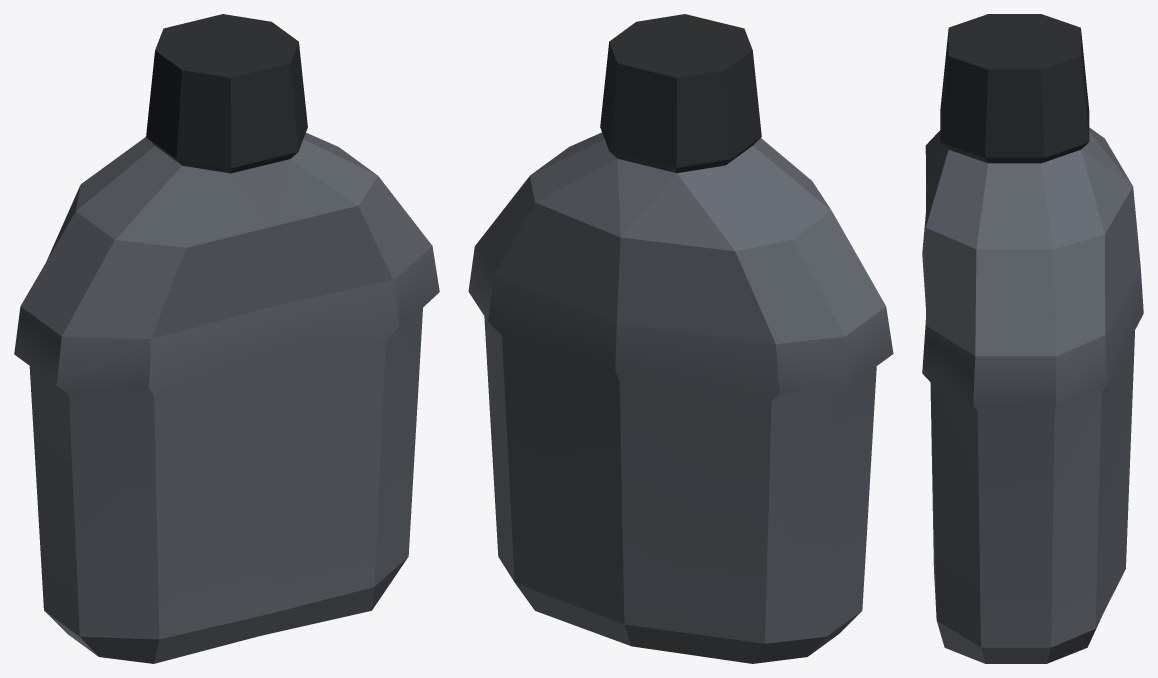
Rendered from SM_Item_Canteen_01.fbx.
3 renders of one model, left to right at view 1: azimuth 30°, elevation 25°; view 2: azimuth 150°, elevation 25°; view 3: azimuth 270°, elevation 25°, orthographic. The views are drawn at different scales.
Parts seen in each view (by area): view 1: SM_Item_Canteen_01; view 2: SM_Item_Canteen_01; view 3: SM_Item_Canteen_01.
Boxes of the visible parts, <box> form: SM_Item_Canteen_01: <box>14,14,439,663</box>; SM_Item_Canteen_01: <box>468,14,893,663</box>; SM_Item_Canteen_01: <box>922,14,1143,663</box>.
Bounding box in the file's own units: 16.97 × 23.92 × 8.67.
